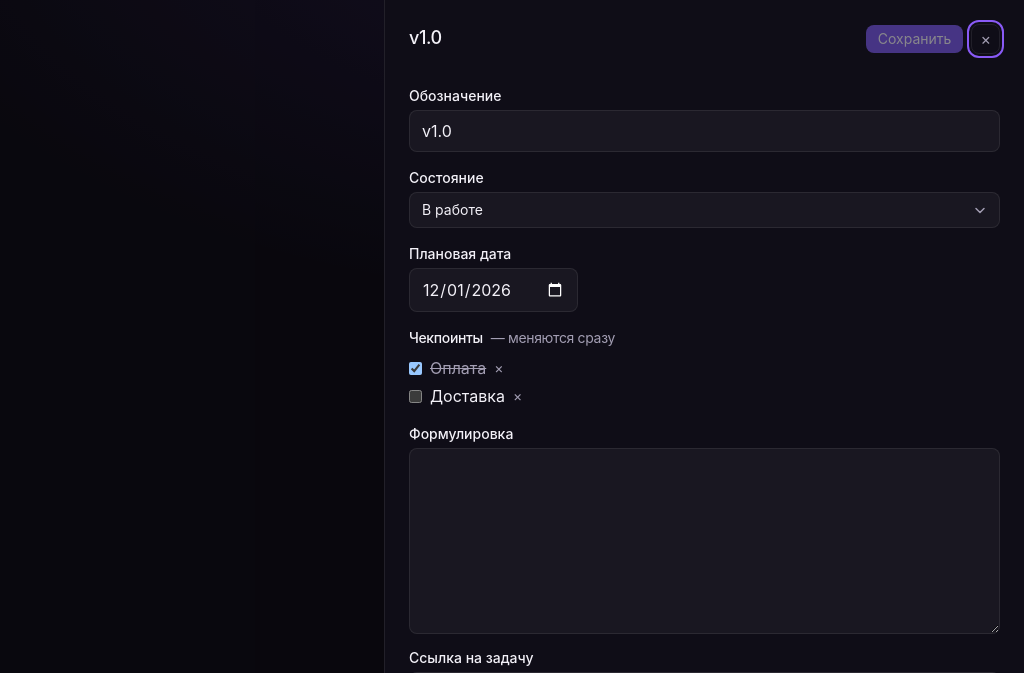
Scenario: VersionDrawer › правка поля версии будит кнопку и показывает предупреждение
The image size is (1024, 673).
Type "1" into the field labelled "Обозначение" at (704, 131), box [409, 110, 1000, 152]
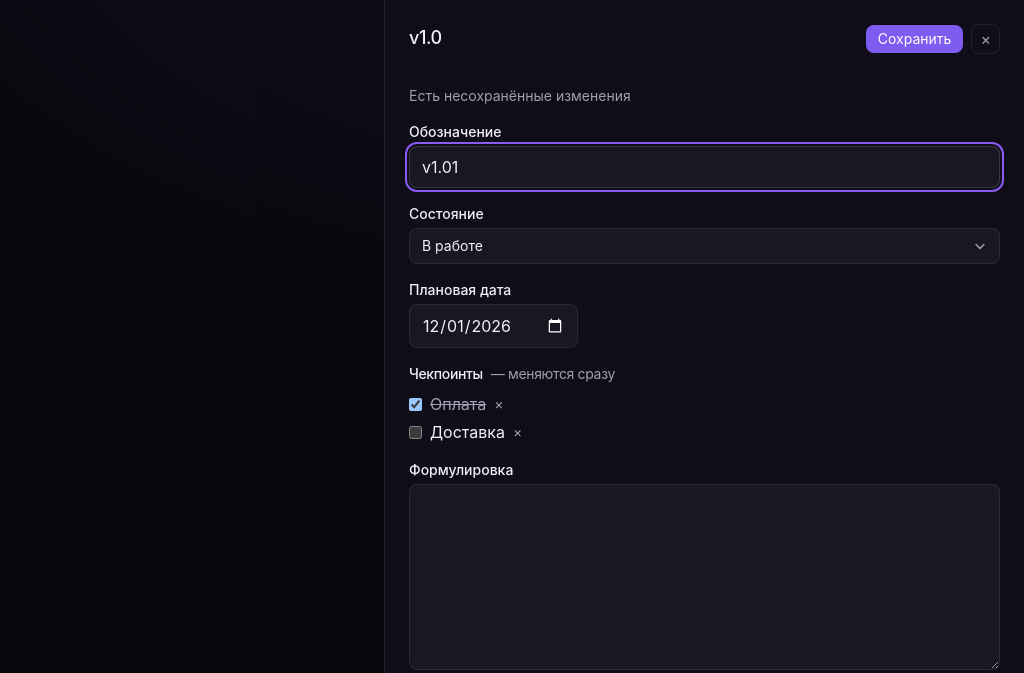
Expected: the button "Сохранить" is enabled, [866, 25, 963, 53]
Expected: the message reads "Есть несохранённые изменения", [409, 87, 631, 104]
